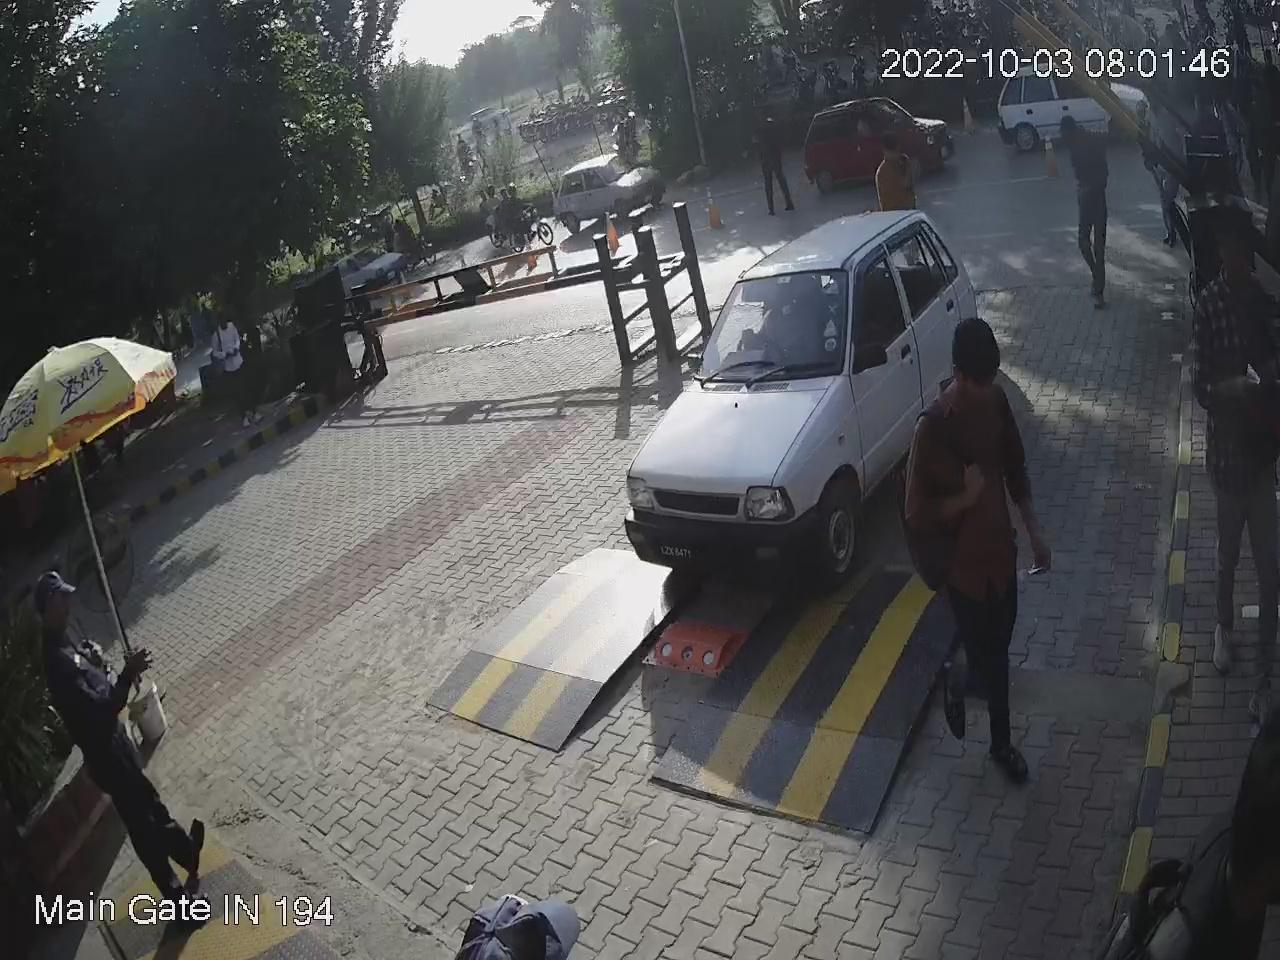windshield: (688, 260, 851, 390)
